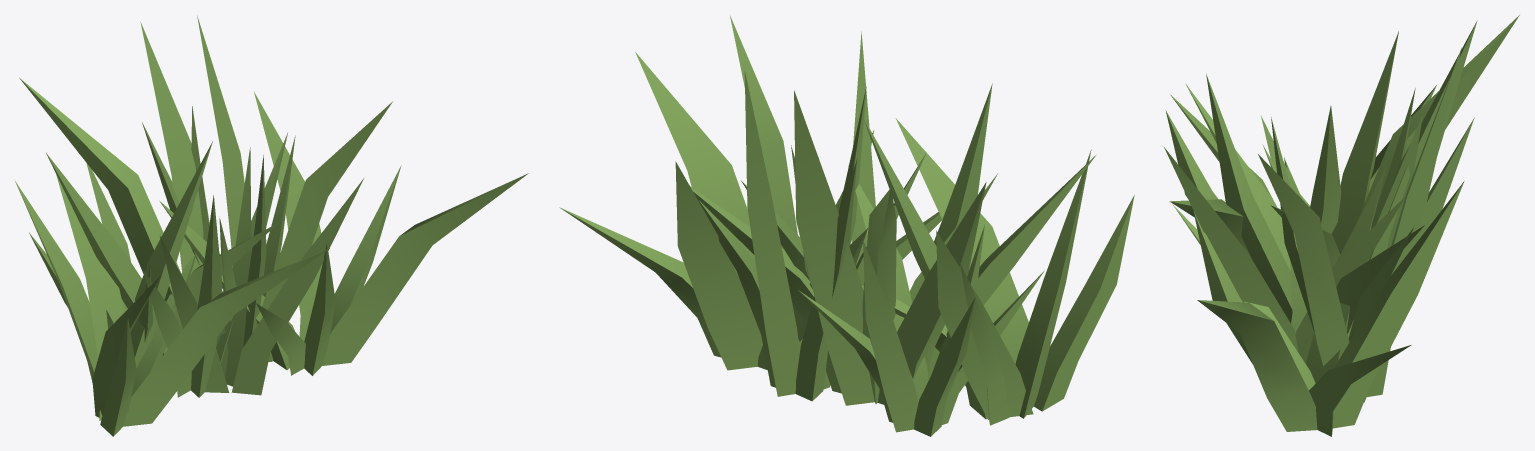
The model's file is Grass_style2.fbx.
The picture shows the model from 3 angles, left to right: view 1: azimuth 30°, elevation 25°; view 2: azimuth 150°, elevation 25°; view 3: azimuth 270°, elevation 25°; orthographic projection. The views are drawn at different scales.
Visible parts, largest first — view 1: Grass_style2; view 2: Grass_style2; view 3: Grass_style2.
Boxes of the visible parts, x1=… form: Grass_style2: x1=15, y1=15, x2=528, y2=436; Grass_style2: x1=559, y1=15, x2=1134, y2=436; Grass_style2: x1=1164, y1=15, x2=1519, y2=436.
Size of the model in its own units: 203 by 145 by 136.
